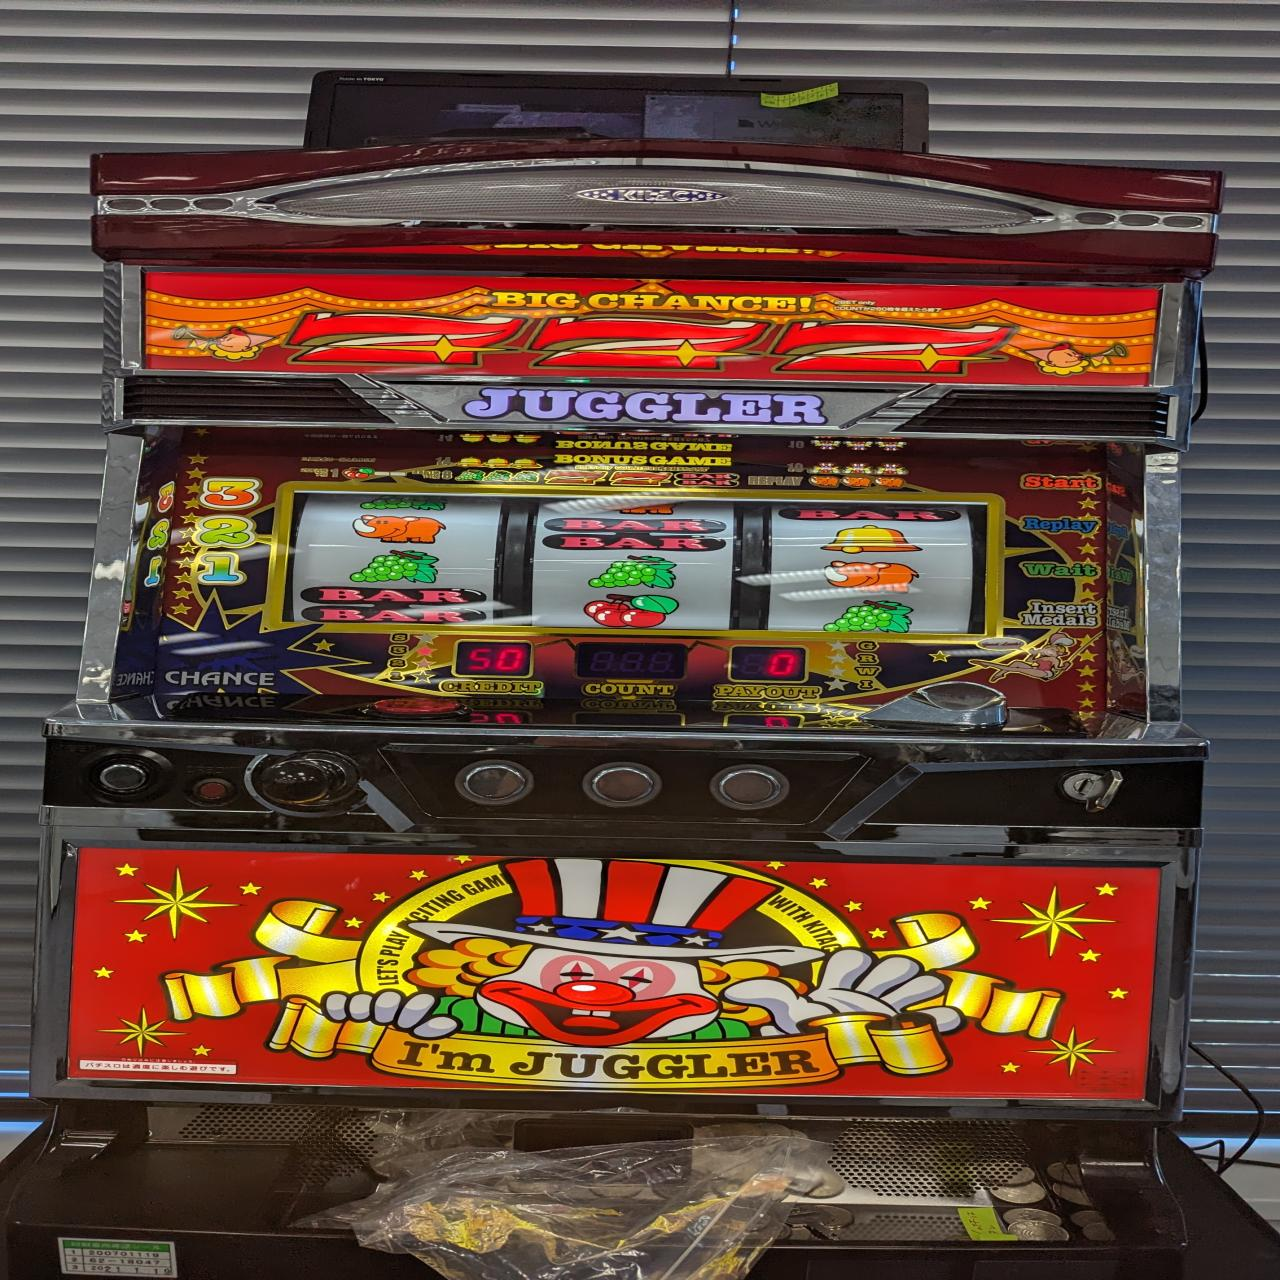8: (823, 558, 922, 595), (347, 512, 451, 545)
Display: (285, 485, 993, 635)
bar: (297, 584, 491, 627), (539, 513, 733, 553)
bell: (813, 523, 925, 554)
cherry: (581, 593, 681, 629)
grape: (586, 553, 682, 593), (819, 599, 918, 635), (348, 549, 444, 584)
